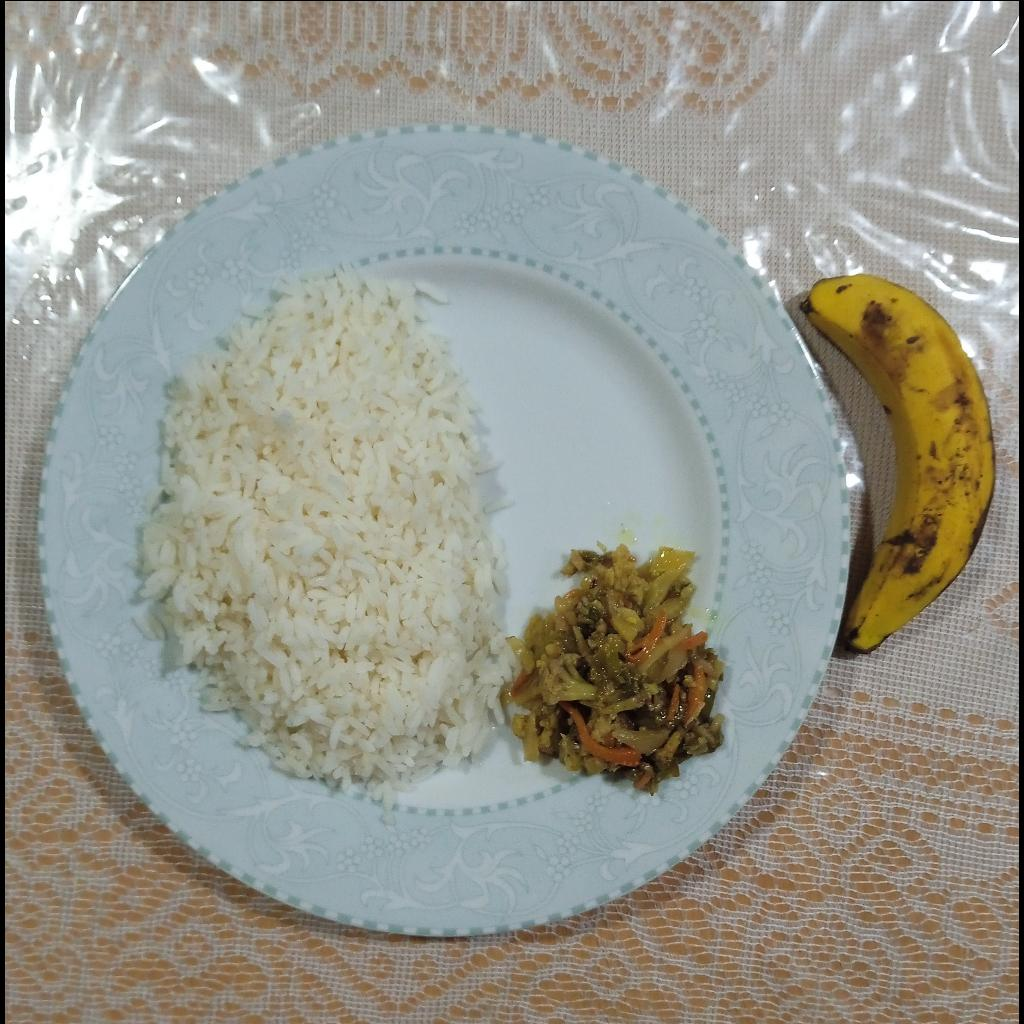banana: (806, 277, 1001, 653)
rice: (133, 272, 500, 790)
vegetable: (507, 546, 725, 786)
